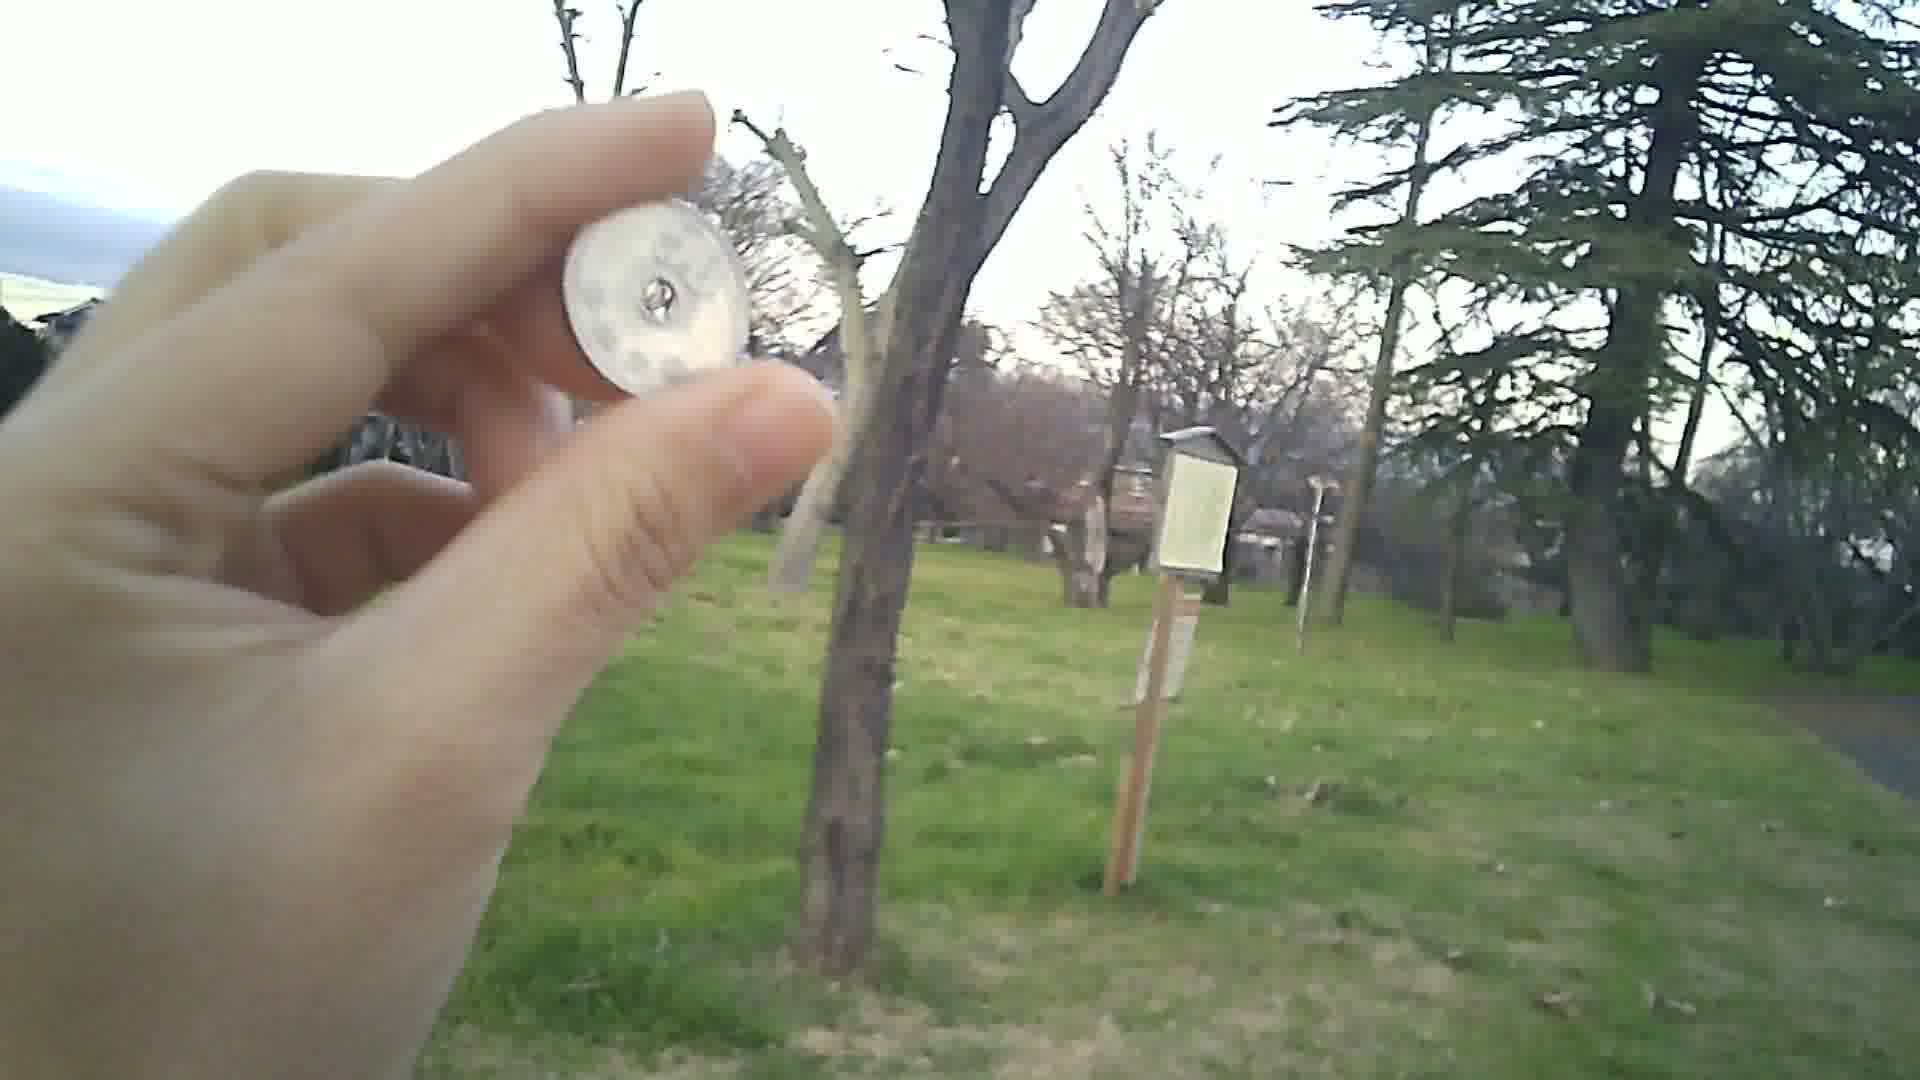50 Yen: (556, 191, 760, 397)
